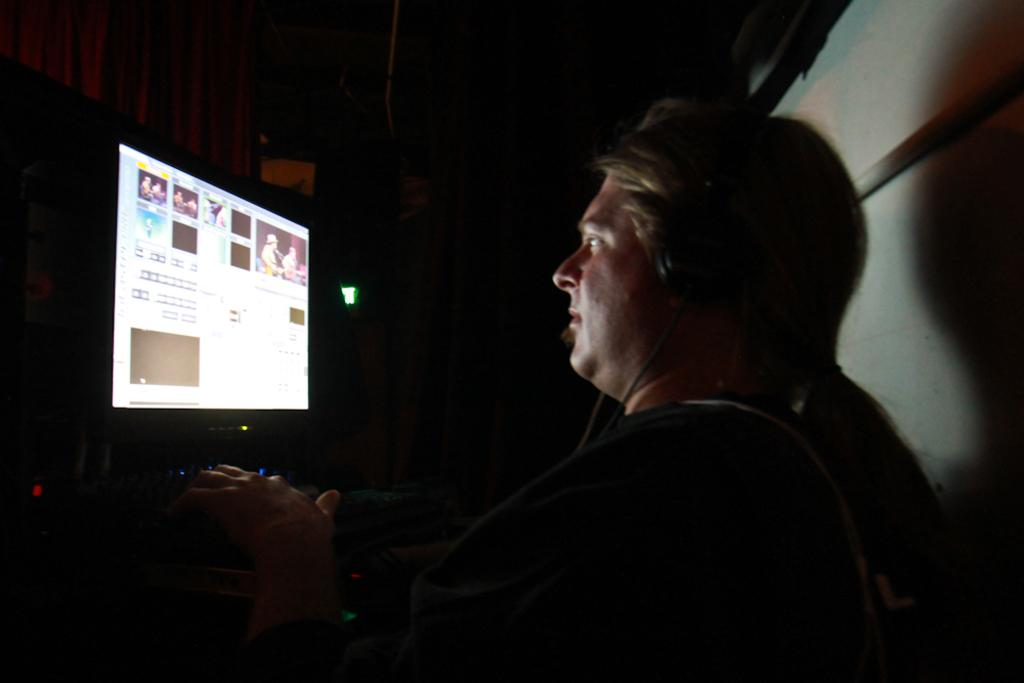Computer-monitor: (77, 163, 330, 489)
